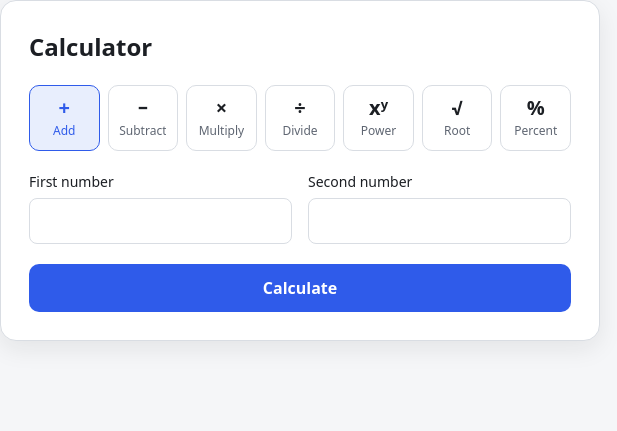
Test case: Calculator › shows a generic message for unexpected errors
The image size is (617, 431).
Type "1" into the number field labelled "First number" at (160, 221), box [29, 198, 292, 244]
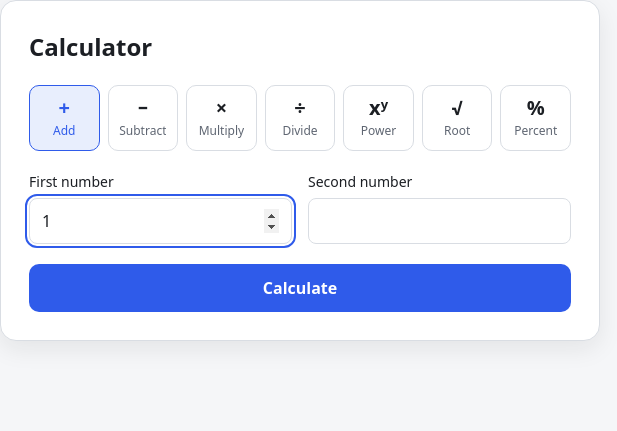
Type "2" into the number field labelled "Second number" at (440, 221), box [308, 198, 571, 244]
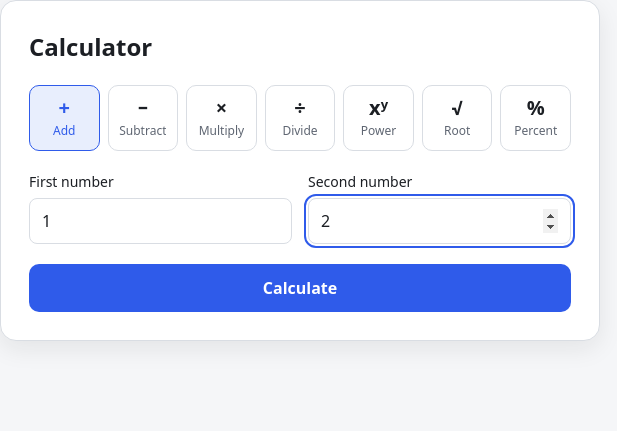
Click the button "Calculate" at (300, 288), box [29, 264, 571, 312]
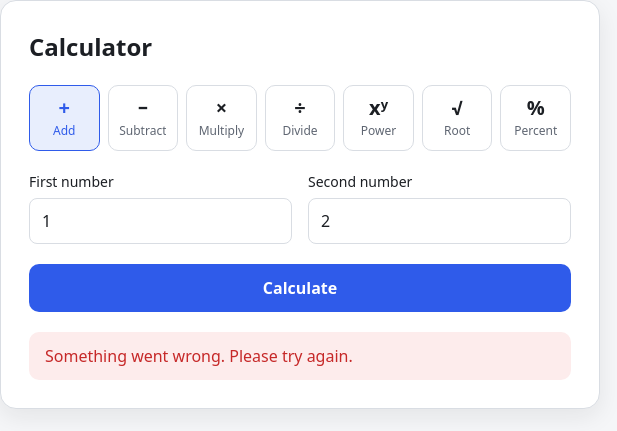
Expected: the message reads "Something went wrong. Please try again.", [45, 345, 353, 367]
